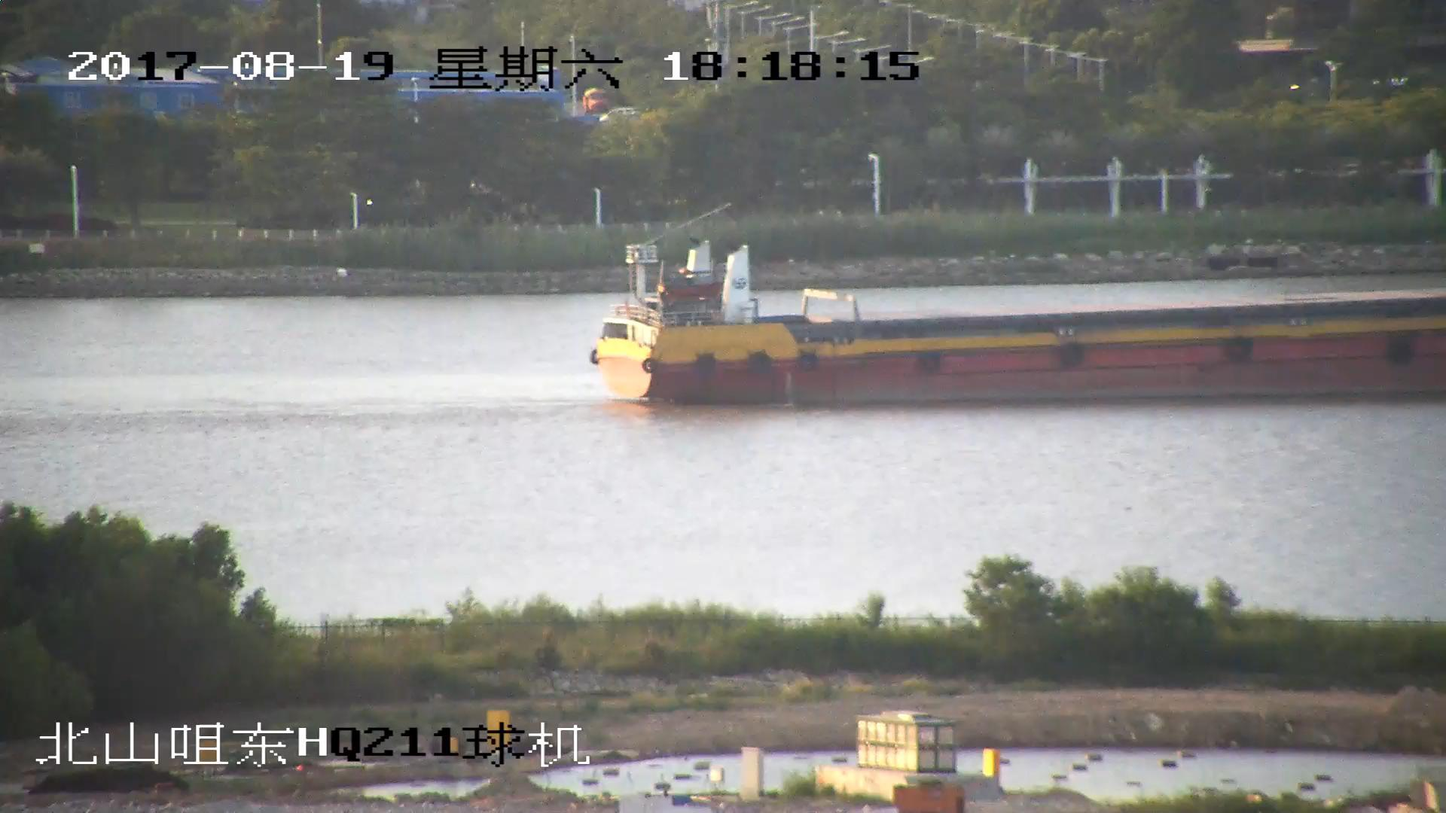general cargo ship: (589, 235, 1445, 403)
